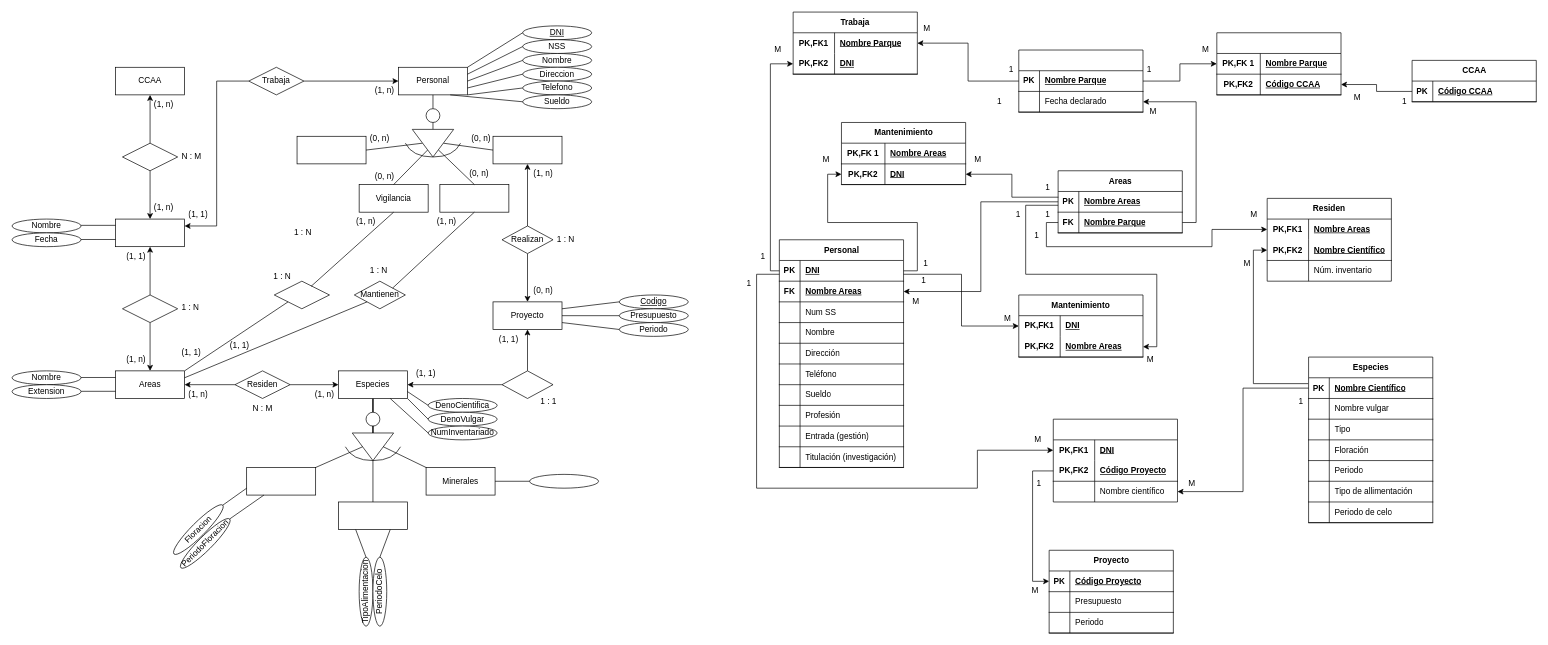
Image size: 1548x645. Some labels were removed from this diagram. The shapes that lost their labels are listed below. From the top down, each one's box as (x1, y1, x2, y2) in pixels, then its label:
(1018, 49, 1143, 112): Parque Natural
(1216, 32, 1341, 95): Pertenece
(122, 142, 178, 171): Tiene
(296, 136, 366, 164): Gestión
(492, 136, 562, 164): Investigación
(439, 184, 509, 212): Conservación
(115, 218, 185, 247): Parques naturales
(122, 294, 178, 323): Compuesto
(274, 280, 329, 309): Vigila
(501, 370, 553, 398): Estudia
(1053, 418, 1177, 502): Realizan proyectos
(246, 467, 316, 495): Vegetales
(529, 474, 599, 488): Clasificacion
(338, 501, 407, 530): Animales
